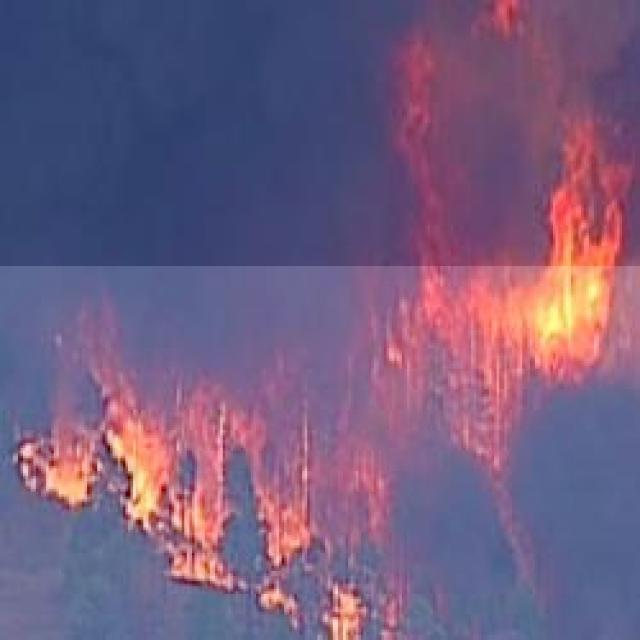Fire: (0, 266, 640, 640)
